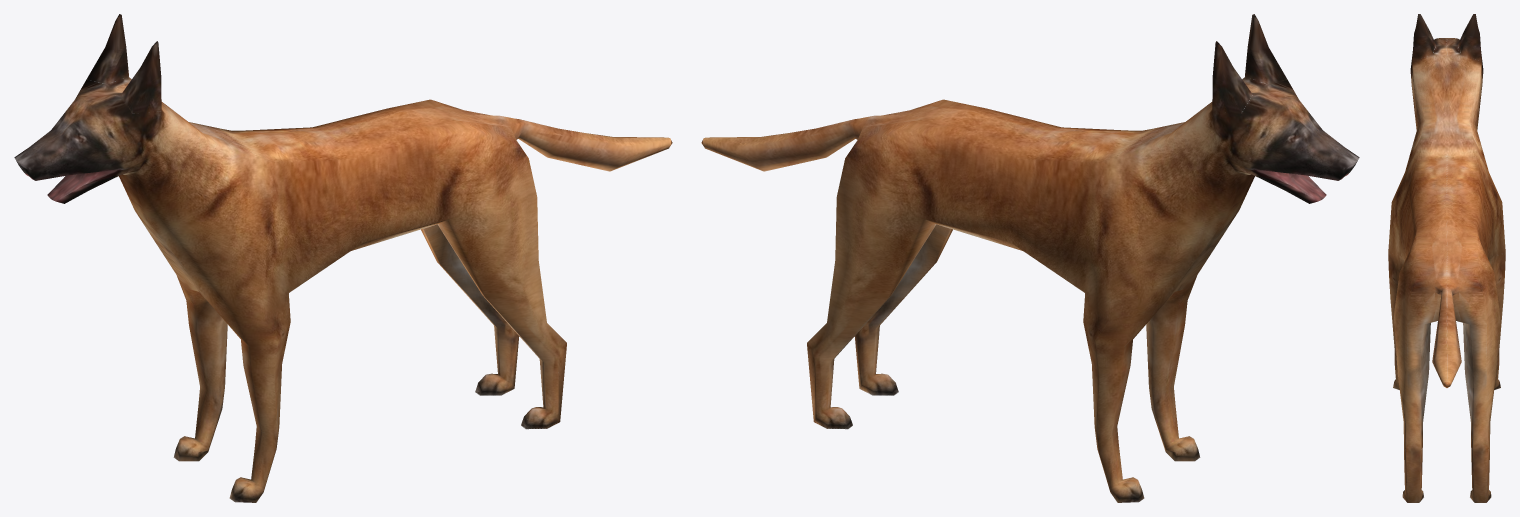
The model's file is dog 1.fbx.
3 views of the same model, side by side, from view 1: azimuth 30°, elevation 25°; view 2: azimuth 150°, elevation 25°; view 3: azimuth 270°, elevation 25° (orthographic). The views are drawn at different scales.
Visible parts, largest first — view 1: dog; view 2: dog; view 3: dog.
Part boxes in pixels (left/top/right/bottom): dog: left=14, top=14, right=672, bottom=502; dog: left=701, top=14, right=1359, bottom=502; dog: left=1388, top=14, right=1505, bottom=502.
Size of the model in its own units: 171 by 117 by 35.95.
1 material, 1 textured.
